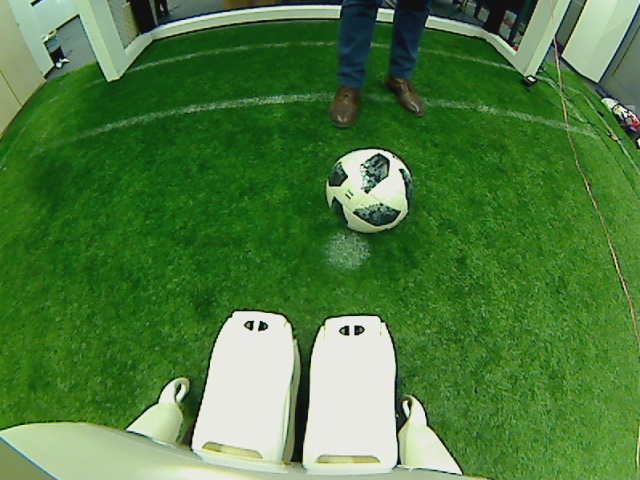ball: (325, 141, 410, 234)
